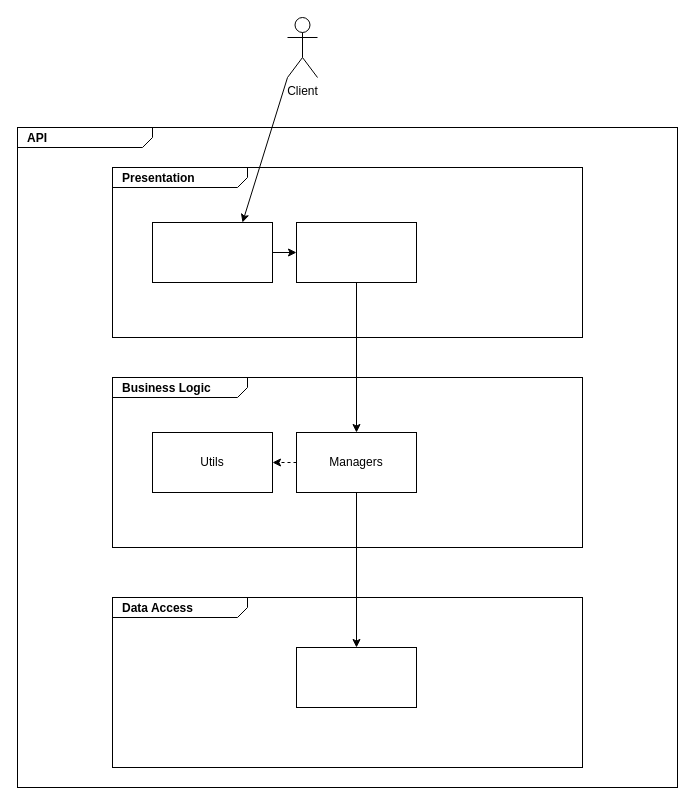
Image size: 695x805. Some labels were removed from this diagram. The shapes that lost their labels are listed below. From the top down, each one's centre as x and y in pixels, then its label:
At point (212, 252): "Routes".
At point (356, 252): "Controllers".
At point (356, 677): "Stores".
